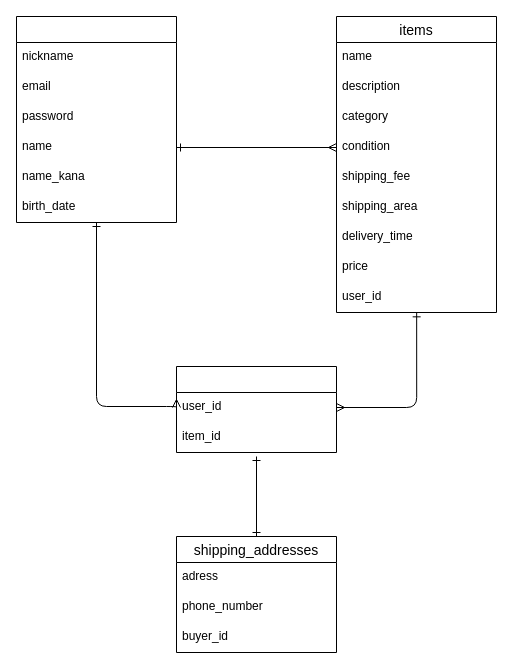
Some shapes in this 513 by 669 pixel diagram are drawn without their labels. Here are the shapes that lost their labels. From the top down, the box of each, then its label:
(16, 16, 176, 222): users
(176, 366, 336, 452): buyers
